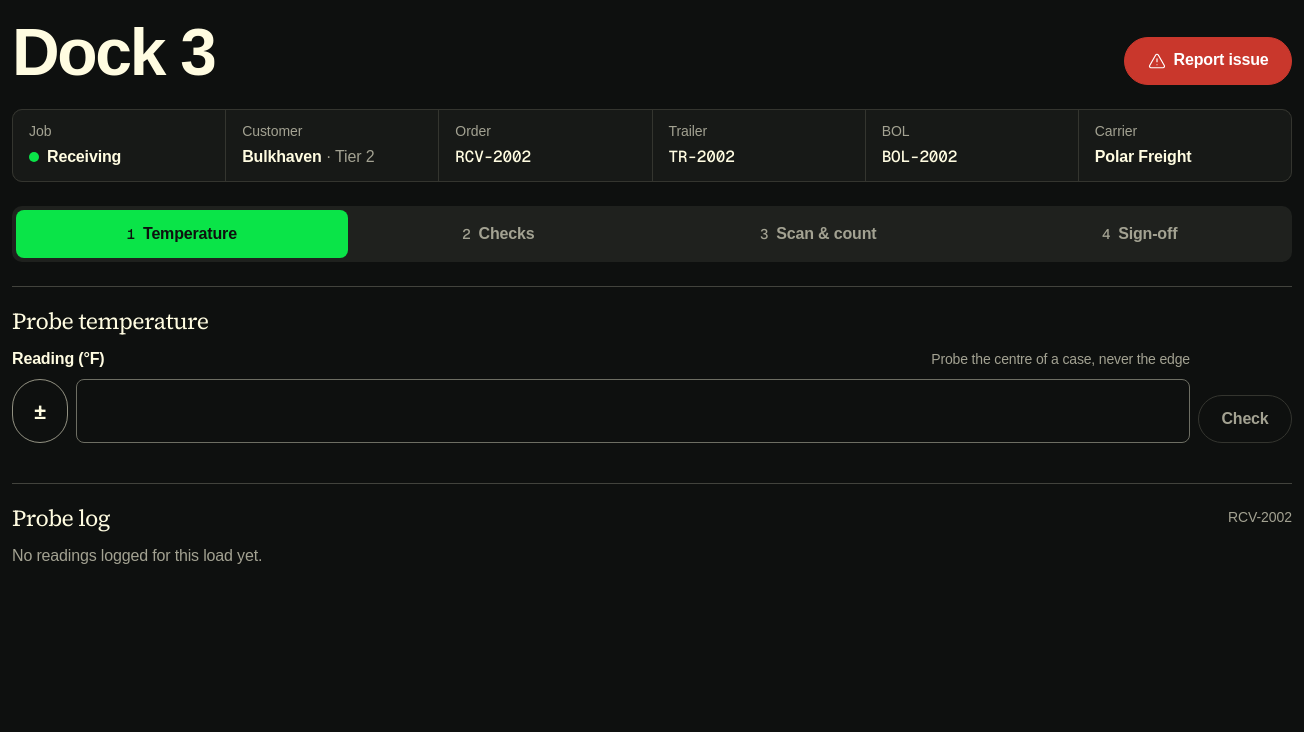
Test: Order work — receiving checks › restores the saved answers and saves a new one to the server
Click the tab "2 Checks" at (498, 234), box [352,210,645,258]
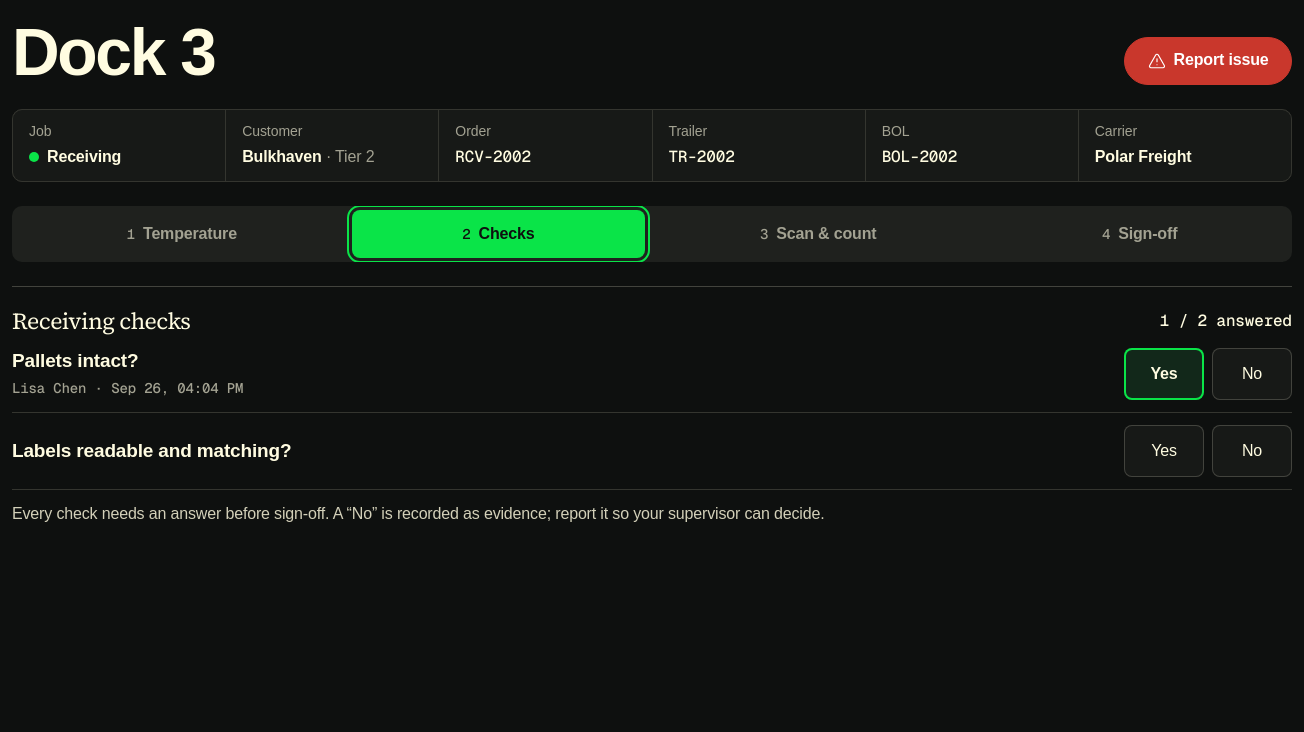
Result: the text "Lisa Chen · Sep 26, 04:04 PM" is shown at [12,379,243,397]
Click the button "No" in the row of "Labels readable and matching?" at (1252, 451), box [1212,425,1292,477]
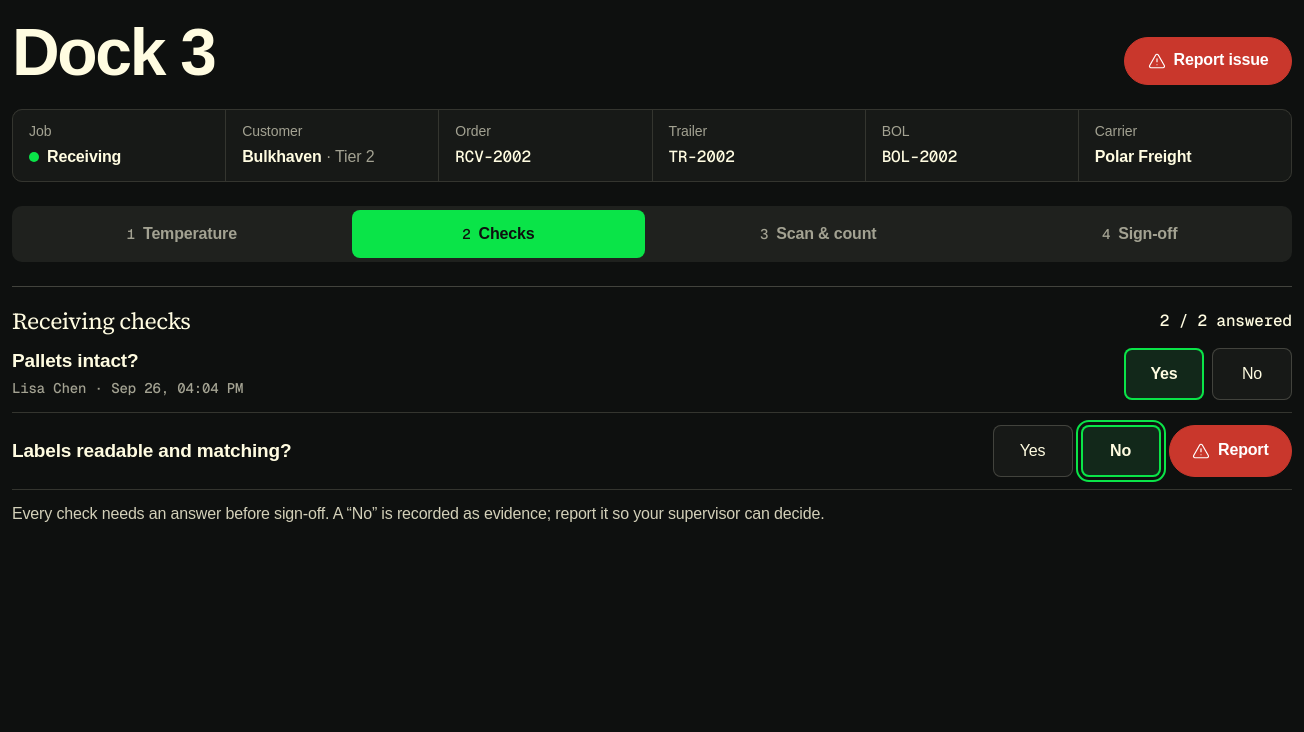
Result: the link "Report" is shown at [1169,425,1292,477]
